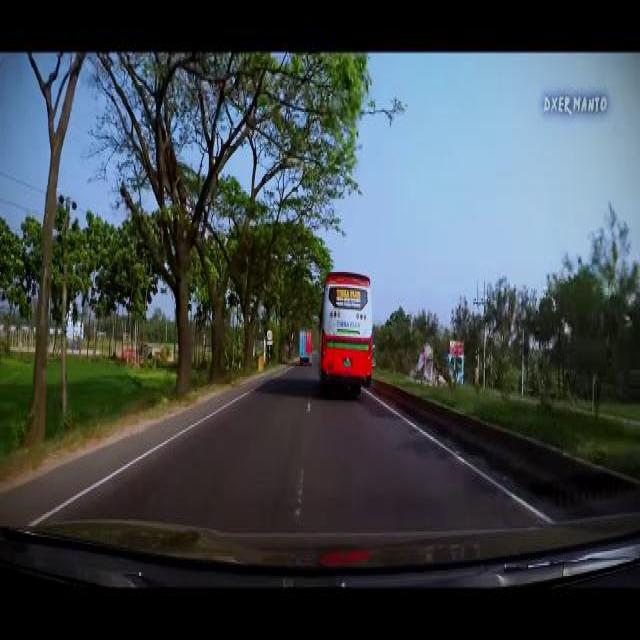bus: (316, 268, 371, 388)
truck: (298, 325, 312, 363)
